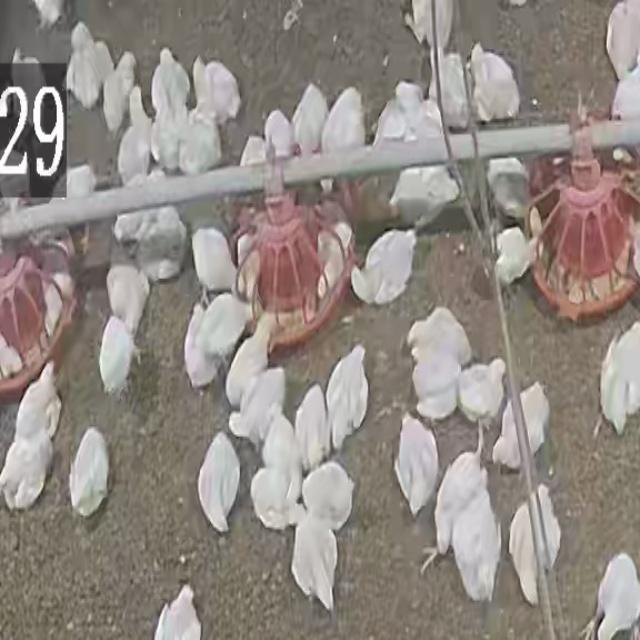chicken: (114, 178, 188, 280), (431, 433, 479, 575), (508, 478, 561, 599), (183, 295, 249, 389), (455, 479, 504, 604), (248, 418, 302, 530), (350, 228, 417, 305), (581, 552, 640, 638), (597, 321, 640, 437), (388, 165, 461, 232), (372, 79, 441, 149), (291, 512, 339, 612), (223, 316, 275, 408), (323, 345, 368, 451), (325, 84, 371, 186), (194, 430, 239, 533), (229, 366, 286, 446), (495, 382, 548, 468), (396, 407, 438, 515), (0, 428, 53, 512), (452, 355, 509, 429), (66, 22, 111, 114), (469, 44, 521, 123), (407, 304, 474, 363), (408, 342, 460, 418), (104, 261, 151, 343), (300, 460, 354, 531), (68, 428, 110, 518), (195, 56, 246, 129), (190, 225, 239, 299), (18, 365, 62, 446), (116, 86, 152, 185), (150, 92, 194, 172), (97, 316, 138, 400), (149, 46, 193, 122), (293, 385, 329, 473), (430, 51, 471, 128), (65, 164, 101, 250), (486, 156, 532, 222), (40, 252, 76, 336), (102, 48, 136, 136), (178, 115, 224, 179), (604, 0, 640, 80), (290, 85, 324, 168), (152, 585, 202, 640), (314, 226, 349, 302), (13, 46, 40, 135), (494, 226, 532, 286), (406, 0, 452, 49), (610, 58, 640, 125), (263, 109, 296, 162), (238, 135, 268, 170)
